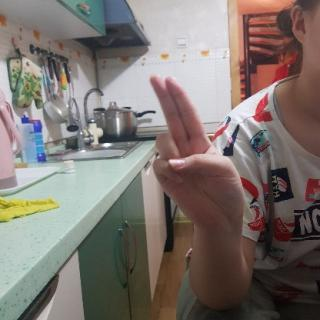TA: (145, 70, 245, 234)
